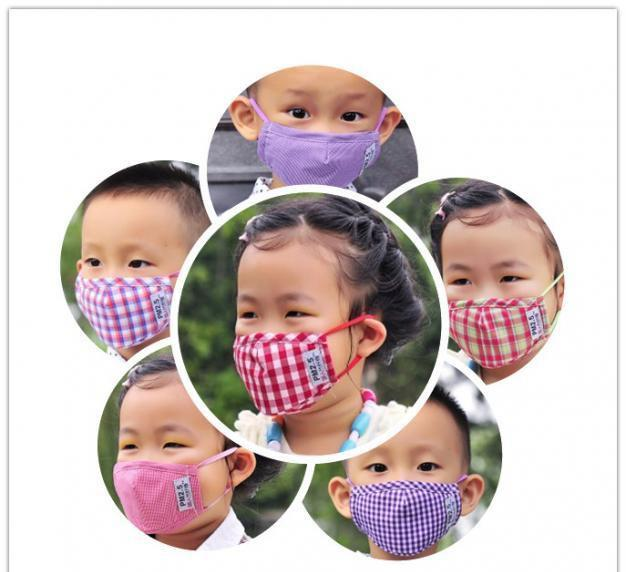OK: (230, 288, 359, 417), (346, 440, 464, 558), (111, 420, 228, 537), (264, 80, 378, 194), (72, 239, 184, 351), (440, 256, 549, 365)
